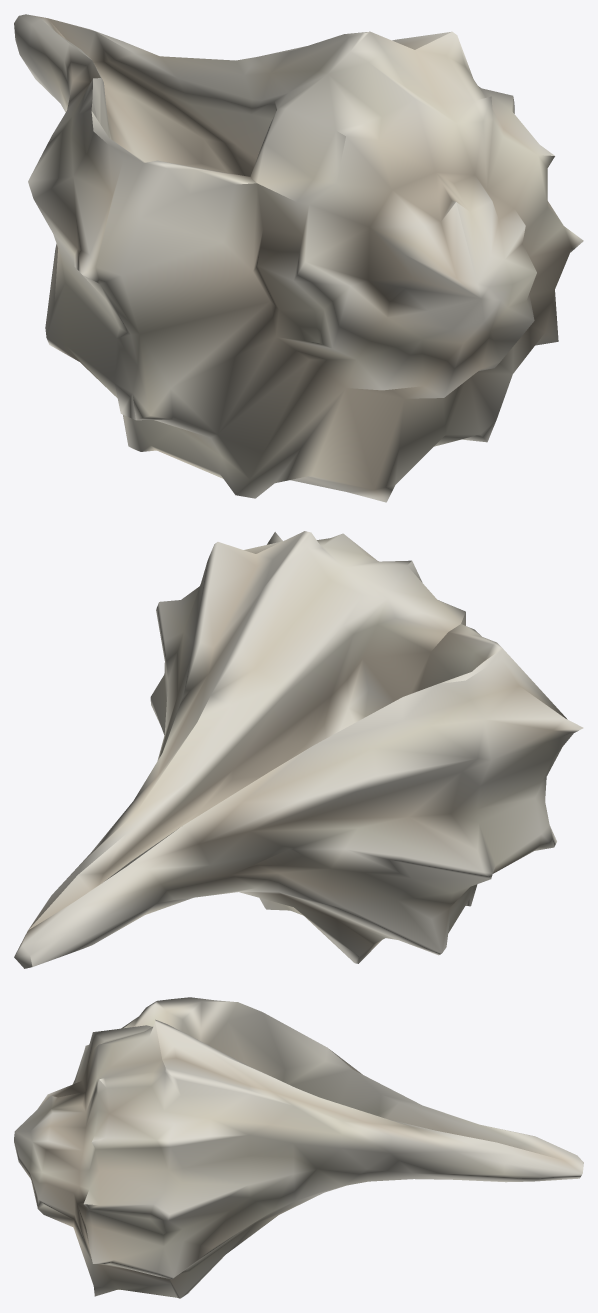
File: underwater-shells-spiky-shell_v1.glb
3 views of the same model, one above another, from view 1: azimuth 30°, elevation 25°; view 2: azimuth 150°, elevation 25°; view 3: azimuth 270°, elevation 25° (orthographic). The views are drawn at different scales.
Parts seen in each view (by area): view 1: Spiky Shell; view 2: Spiky Shell; view 3: Spiky Shell.
Part boxes in pixels (x1,y1,x2,y2): Spiky Shell: [14, 14, 583, 502]; Spiky Shell: [14, 531, 583, 968]; Spiky Shell: [14, 997, 583, 1298].
Bounding box in the file's own units: 0.0606 × 0.0551 × 0.1.
